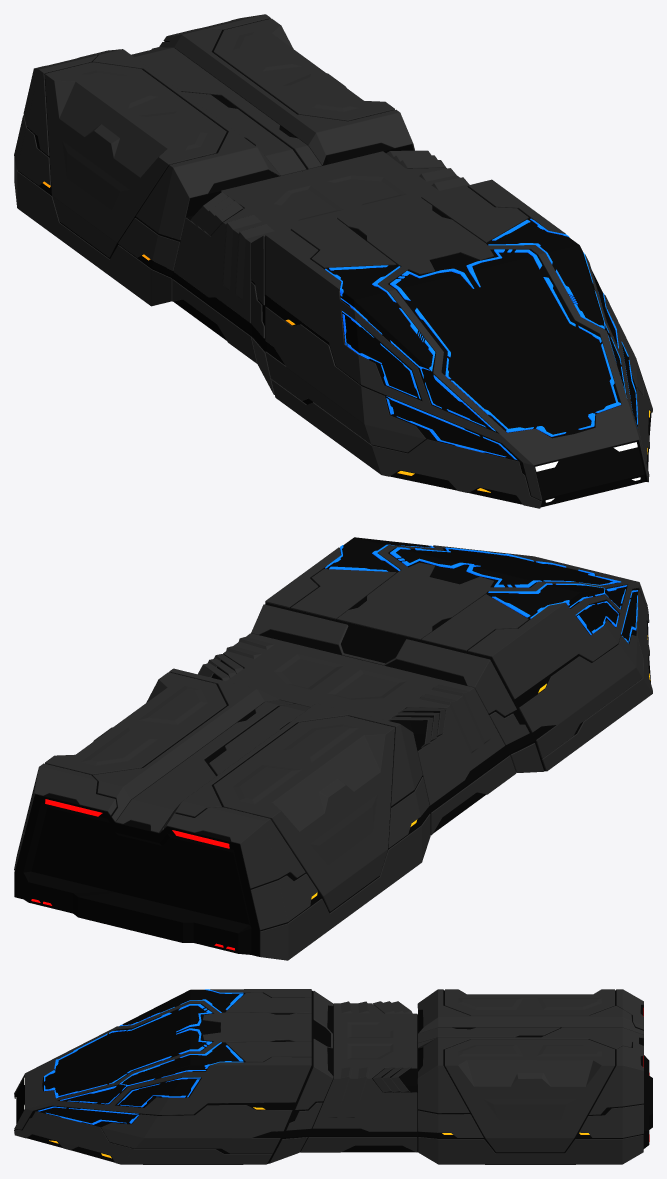
Rendered from sci-fi_vehicle.glb.
3 views of the same model, one above another, from view 1: azimuth 30°, elevation 25°; view 2: azimuth 150°, elevation 25°; view 3: azimuth 270°, elevation 25° (orthographic). The views are drawn at different scales.
Parts seen in each view (by area): view 1: Cube.002, Cube.004, Cube.009, Cube.005, Cube.010, Cube.003, Cube.006, Cube.011, Cube, Cube.007, Cube.008; view 2: Cube, Cube.002, Cube.009, Cube.005, Cube.010, Cube.008, Cube.004, Cube.006, Cube.007, Cube.003, Cube.011, Cube.014; view 3: Cube.002, Cube.009, Cube.005, Cube.010, Cube.004, Cube, Cube.003, Cube.007, Cube.008, Cube.011, Cube.006.
Boxes of the visible parts, bbox=[...] form: Cube.002: bbox=[265, 179, 652, 508]; Cube.004: bbox=[333, 222, 636, 457]; Cube.009: bbox=[45, 18, 394, 257]; Cube.005: bbox=[14, 14, 414, 270]; Cube.010: bbox=[172, 150, 469, 363]; Cube.003: bbox=[266, 186, 651, 507]; Cube.006: bbox=[131, 47, 321, 175]; Cube.011: bbox=[325, 218, 637, 459]; Cube: bbox=[18, 19, 413, 379]; Cube.007: bbox=[14, 158, 172, 306]; Cube.008: bbox=[251, 185, 467, 394]; Cube: bbox=[15, 602, 545, 956]; Cube.002: bbox=[265, 545, 652, 771]; Cube.009: bbox=[45, 672, 394, 911]; Cube.005: bbox=[14, 668, 429, 930]; Cube.010: bbox=[198, 633, 516, 835]; Cube.008: bbox=[251, 604, 544, 772]; Cube.004: bbox=[333, 537, 637, 640]; Cube.006: bbox=[116, 700, 310, 832]; Cube.007: bbox=[14, 814, 430, 960]; Cube.003: bbox=[265, 544, 650, 758]; Cube.011: bbox=[325, 544, 637, 643]; Cube.014: bbox=[31, 799, 234, 950]; Cube.002: bbox=[14, 989, 311, 1164]; Cube.009: bbox=[445, 989, 614, 1152]; Cube.005: bbox=[417, 989, 643, 1137]; Cube.010: bbox=[300, 1001, 417, 1152]; Cube.004: bbox=[42, 989, 238, 1122]; Cube: bbox=[267, 990, 652, 1163]; Cube.003: bbox=[14, 991, 295, 1162]; Cube.007: bbox=[418, 1135, 643, 1164]; Cube.008: bbox=[269, 991, 333, 1163]; Cube.011: bbox=[38, 989, 243, 1124]; Cube.006: bbox=[418, 1027, 643, 1047].
Size of the model in its own units: 2.42 by 1.22 by 7.16.
